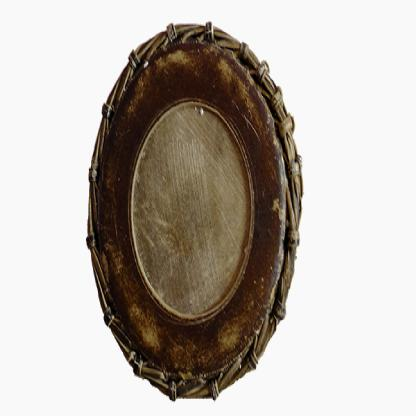Mridangam: (80, 16, 312, 411)
